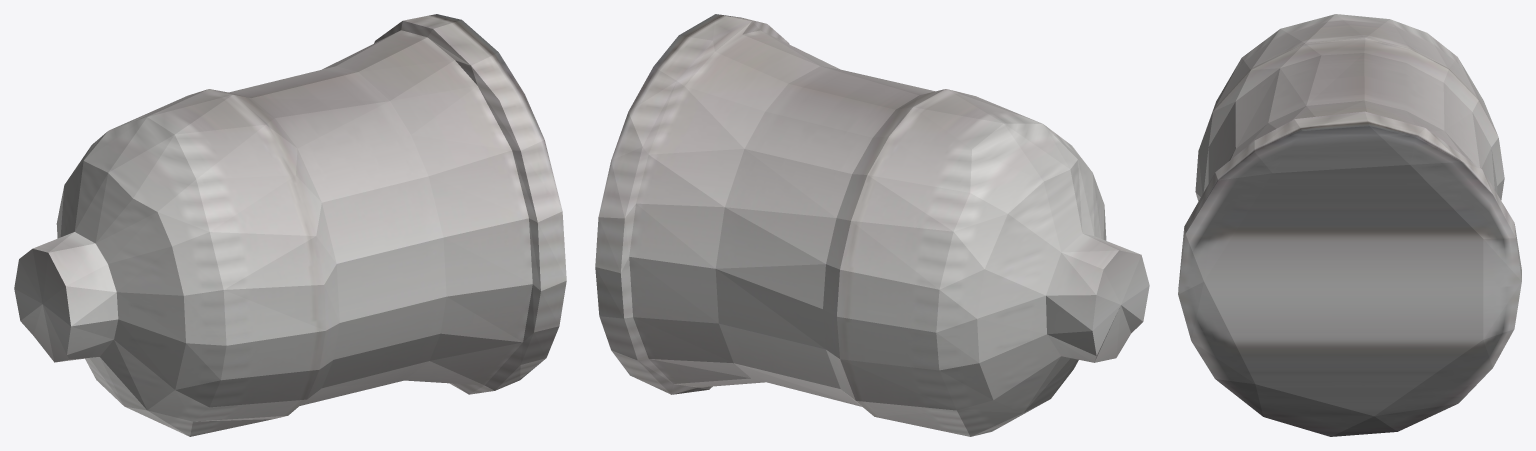
File: duy.dae
The picture shows the model from 3 angles, left to right: view 1: azimuth 30°, elevation 25°; view 2: azimuth 150°, elevation 25°; view 3: azimuth 270°, elevation 25°; orthographic projection. The views are drawn at different scales.
Parts seen in each view (by area): view 1: Cylinder; view 2: Cylinder; view 3: Cylinder.
Part boxes in pixels (x1,y1,x2,y2): Cylinder: (14, 14, 566, 436); Cylinder: (595, 14, 1149, 436); Cylinder: (1178, 14, 1521, 436).
Size of the model in its own units: 4.34 by 3.22 by 3.27.
